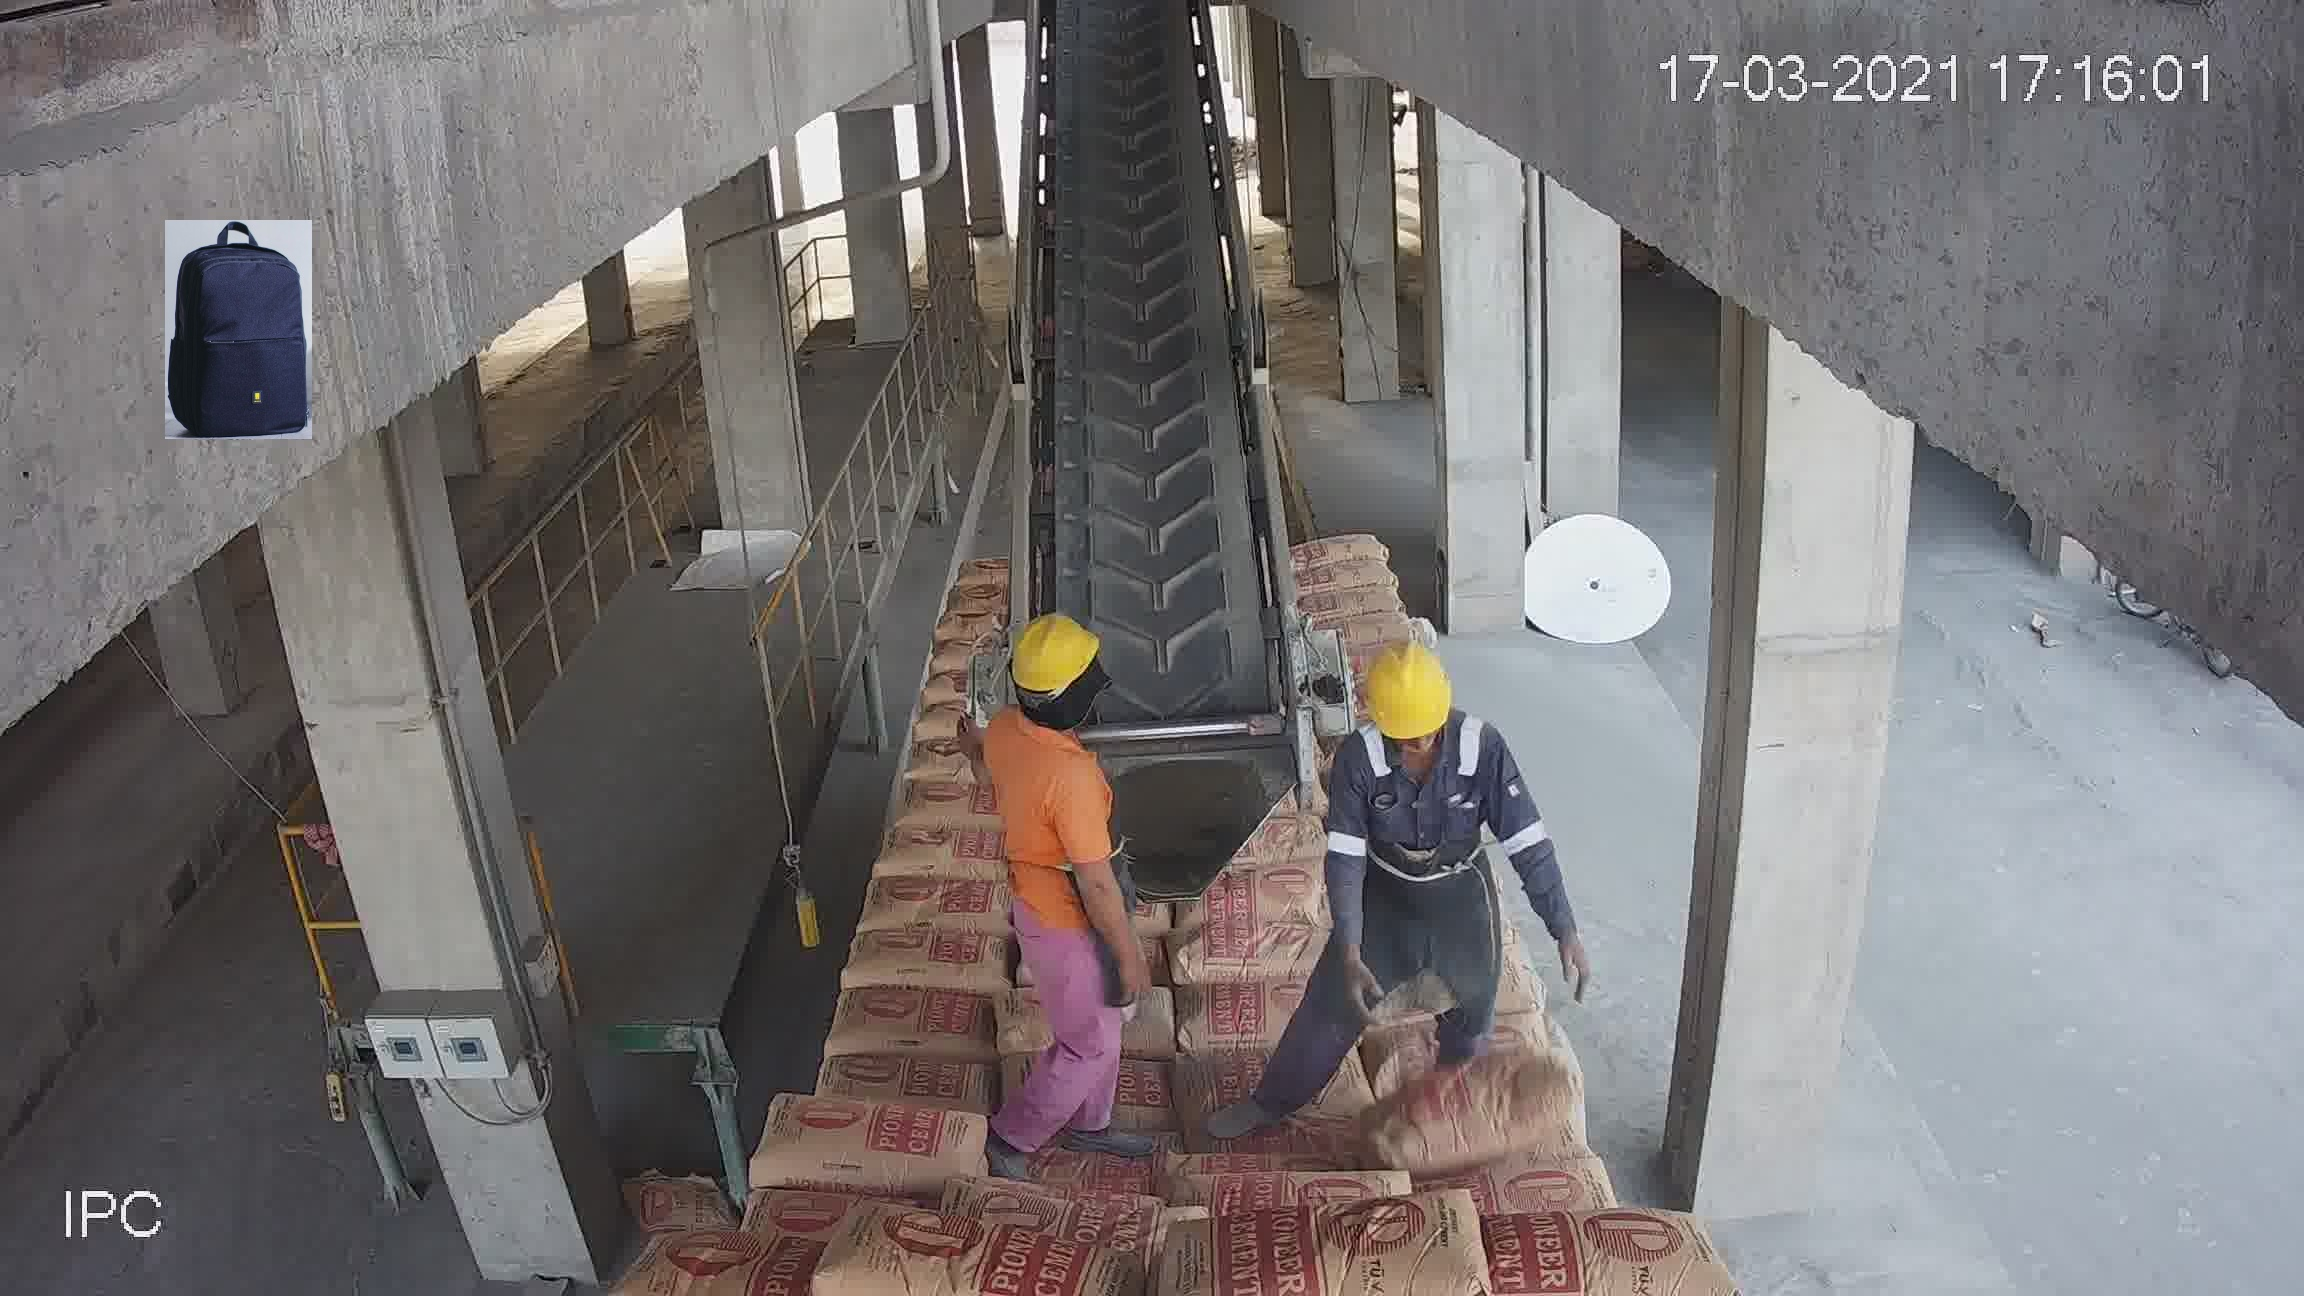bag: (999, 43, 1285, 875)
bag_h: (1369, 1048, 1590, 1171), (1163, 1211, 1473, 1294), (1429, 1199, 1703, 1294), (747, 1101, 994, 1195), (805, 1222, 1106, 1294), (1388, 1141, 1598, 1215), (623, 1207, 832, 1277), (805, 1041, 994, 1112), (815, 986, 987, 1057), (1160, 1158, 1407, 1207), (836, 926, 1003, 984), (859, 870, 1002, 926), (880, 821, 999, 870), (1298, 585, 1408, 628), (1304, 559, 1397, 595), (1299, 538, 1393, 563)
